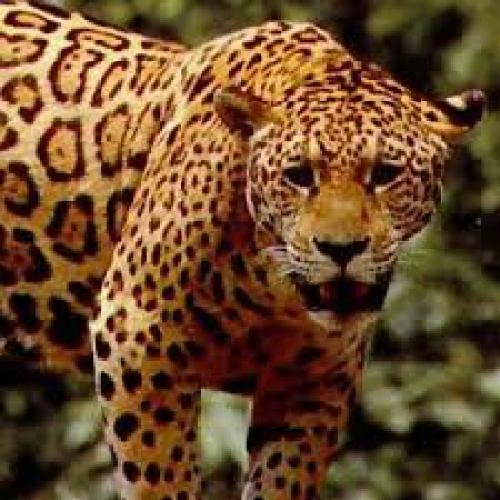jaguar_not-endangered: (70, 24, 446, 500)
